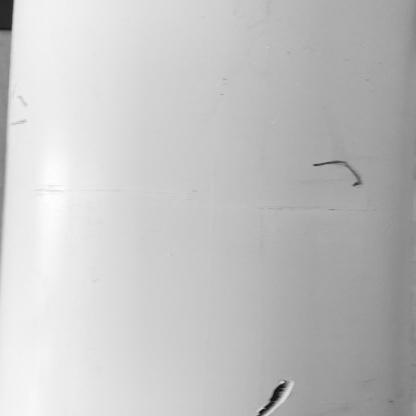fengxi: (304, 155, 365, 188)
kongdong: (247, 376, 300, 416)
